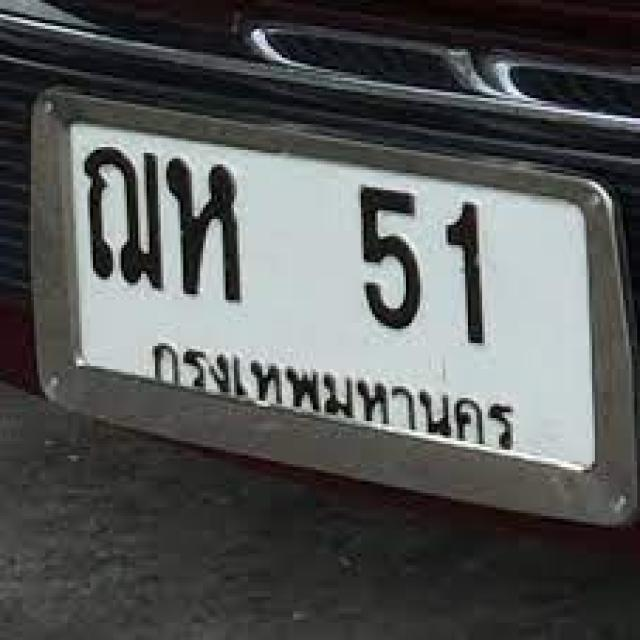license_plate: (66, 120, 597, 466)
